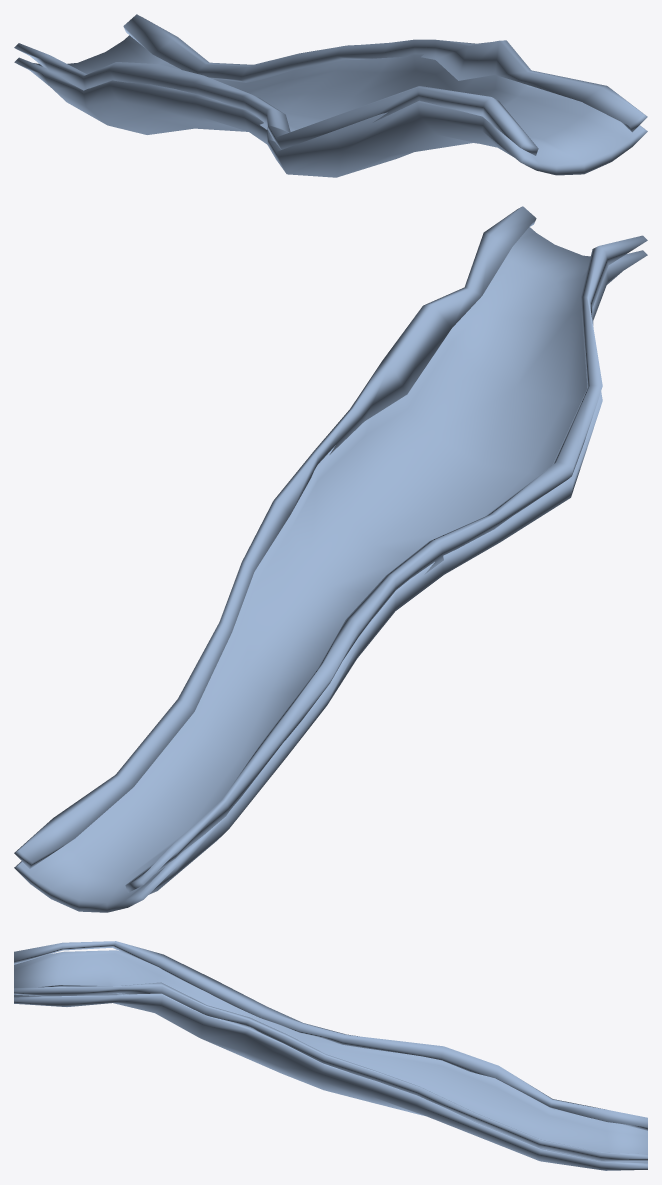
Rendered from junRoadLongSlope5.fbx.
3 views of the same model, one above another, from view 1: azimuth 30°, elevation 25°; view 2: azimuth 150°, elevation 25°; view 3: azimuth 270°, elevation 25° (orthographic). The views are drawn at different scales.
Parts seen in each view (by area): view 1: roadLongSlope5_LOD0, roadLongSlope5_edge_LOD0; view 2: roadLongSlope5_LOD0, roadLongSlope5_edge_LOD0; view 3: roadLongSlope5_LOD0, roadLongSlope5_edge_LOD0.
Boxes of the visible parts, x1,y1,x2,y2 form: roadLongSlope5_LOD0: (14,35,647,177); roadLongSlope5_edge_LOD0: (14,14,647,155); roadLongSlope5_LOD0: (14,227,647,912); roadLongSlope5_edge_LOD0: (14,206,647,892); roadLongSlope5_LOD0: (14,950,647,1170); roadLongSlope5_edge_LOD0: (14,941,647,1160).
Size of the model in its own units: 1080 by 1614 by 4390.
